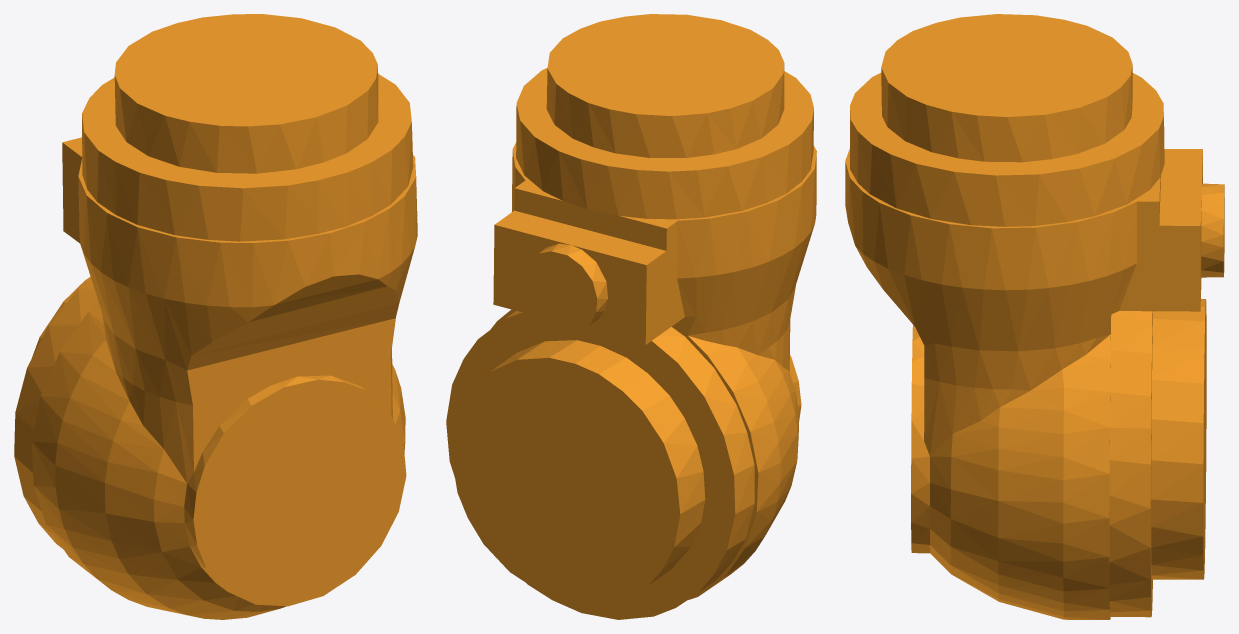
Rendered from KukaK6R900Link5.dae.
3 renders of one model, left to right at view 1: azimuth 30°, elevation 25°; view 2: azimuth 150°, elevation 25°; view 3: azimuth 270°, elevation 25°, orthographic. The views are drawn at different scales.
Parts seen in each view (by area): view 1: KUKA_K6Link5; view 2: KUKA_K6Link5; view 3: KUKA_K6Link5.
Part boxes in pixels (x1,y1,x2,y2): KUKA_K6Link5: [14, 14, 417, 619]; KUKA_K6Link5: [446, 14, 816, 619]; KUKA_K6Link5: [845, 14, 1224, 619].
Bounding box in the file's own units: 0.0486 × 0.0506 × 0.0789.
